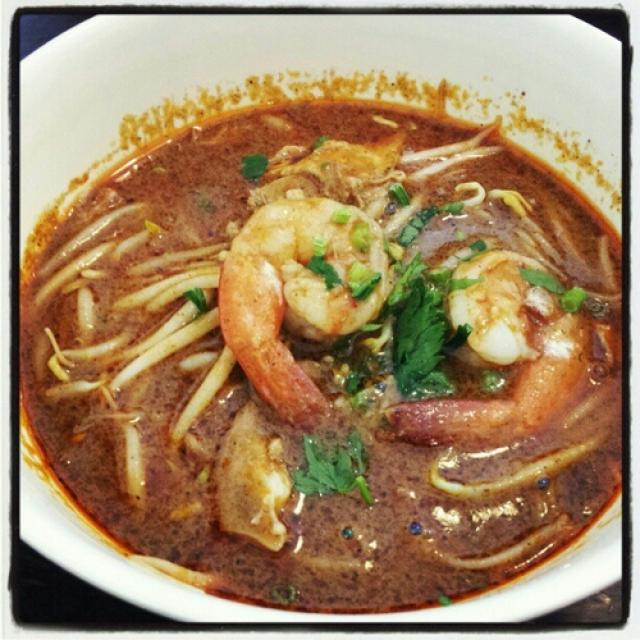面条主食: (19, 42, 627, 611)
